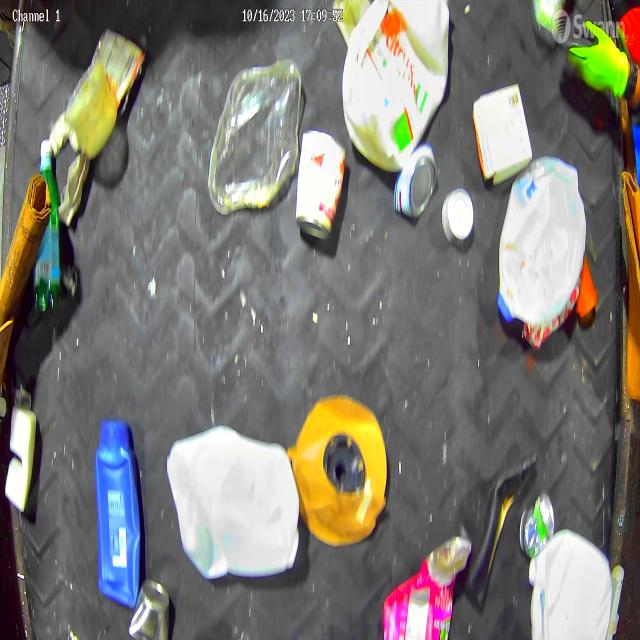can: (297, 127, 343, 245), (396, 140, 433, 214), (127, 584, 173, 640), (520, 488, 552, 568), (446, 192, 474, 242)
milk_jug: (167, 421, 296, 575), (494, 152, 590, 320), (344, 0, 444, 151), (533, 532, 615, 636)
non_white_jug: (95, 422, 135, 584)
